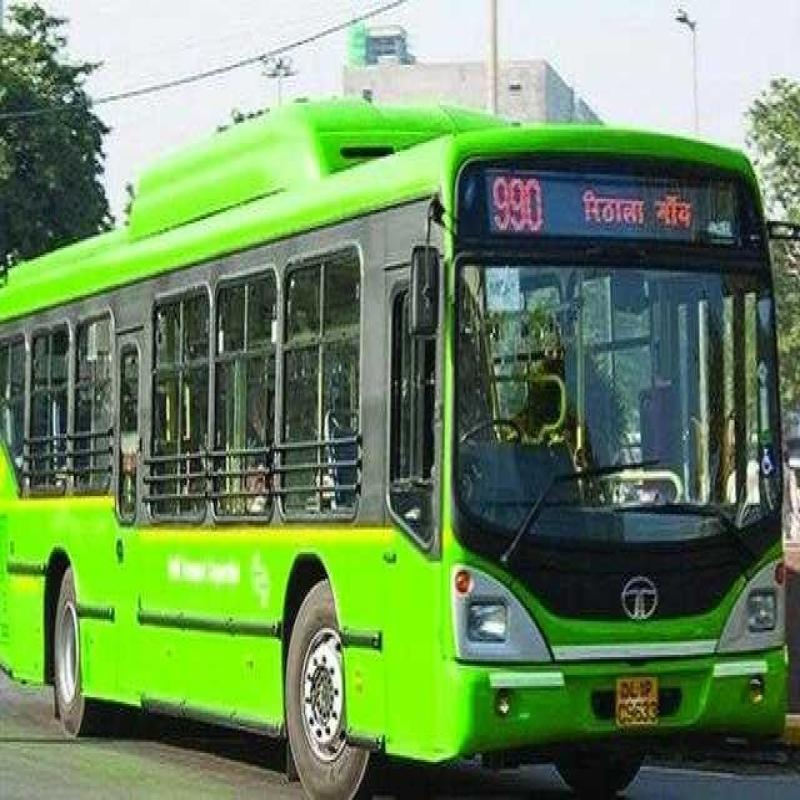bus: (10, 81, 765, 780)
